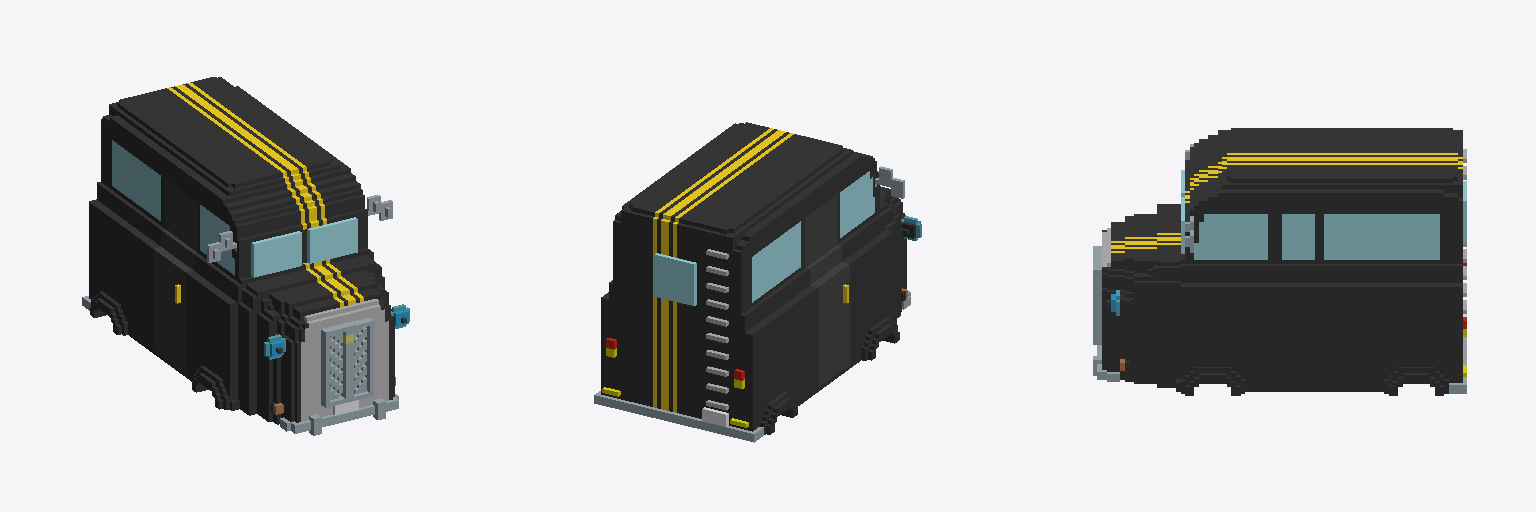
3 renders of one model, left to right at view 1: azimuth 30°, elevation 25°; view 2: azimuth 150°, elevation 25°; view 3: azimuth 270°, elevation 25°, orthographic.
Parts seen in each view (by area): view 1: object 1; view 2: object 1; view 3: object 1.
Part boxes in pixels (x1,y1,x2,y2): object 1: (82,77,409,435); object 1: (594,122,921,442); object 1: (1093,128,1466,395).
Bounding box in the file's own units: 4.6 × 4.9 × 8.1.
Materials: 1 (1 with a texture image).